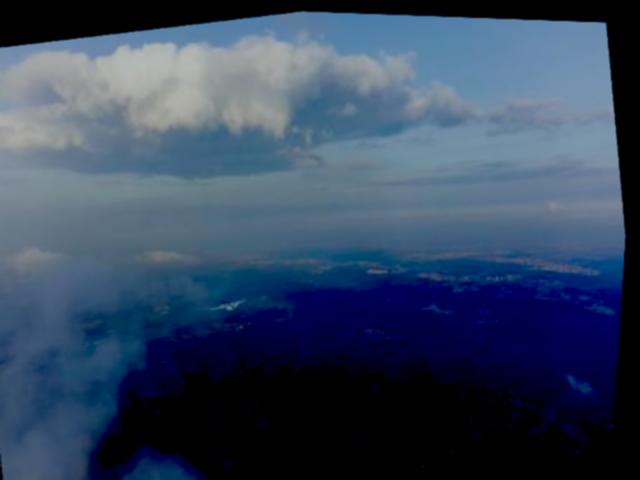uav: (211, 287, 253, 316)
